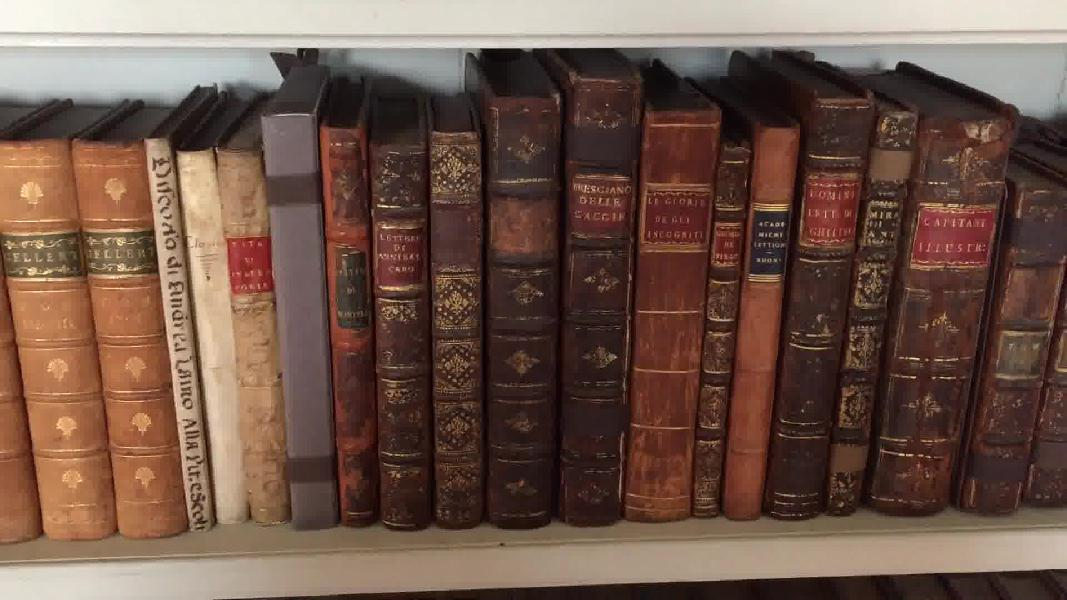Aa6-24: (140, 121, 217, 529)
Aa6-25: (171, 135, 258, 529)
Aa6-26: (215, 146, 297, 521)
Aa6-27: (256, 109, 336, 540)
Aa6-28: (317, 115, 383, 534)
Aa6-29: (379, 134, 431, 531)
Aa6-30: (423, 111, 489, 521)
Aa6-31: (481, 89, 555, 540)
Aa6-32: (559, 50, 635, 528)
Aa6-33: (627, 79, 708, 528)
Aa6-34: (696, 121, 755, 520)
Aa6-35: (724, 115, 786, 523)
Aa6-36: (771, 52, 866, 527)
Aa6-37: (833, 101, 913, 528)
Aa6-38: (867, 93, 993, 557)
